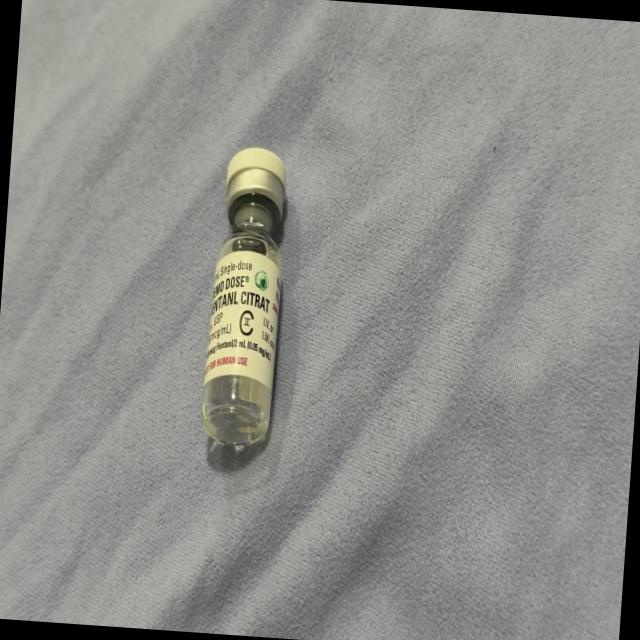fentanl_citrat: (199, 149, 289, 453)
